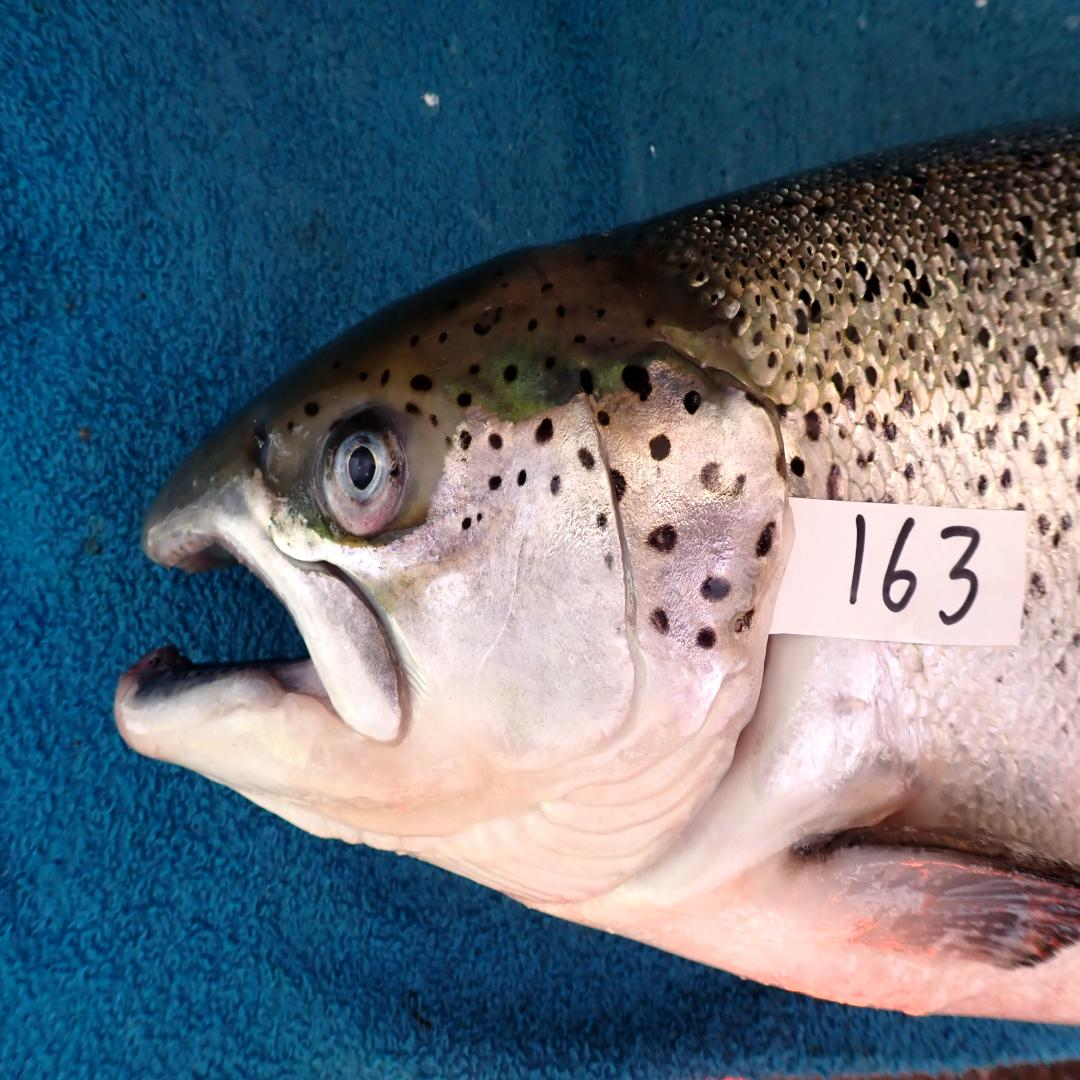roi: (403, 357, 787, 913)
